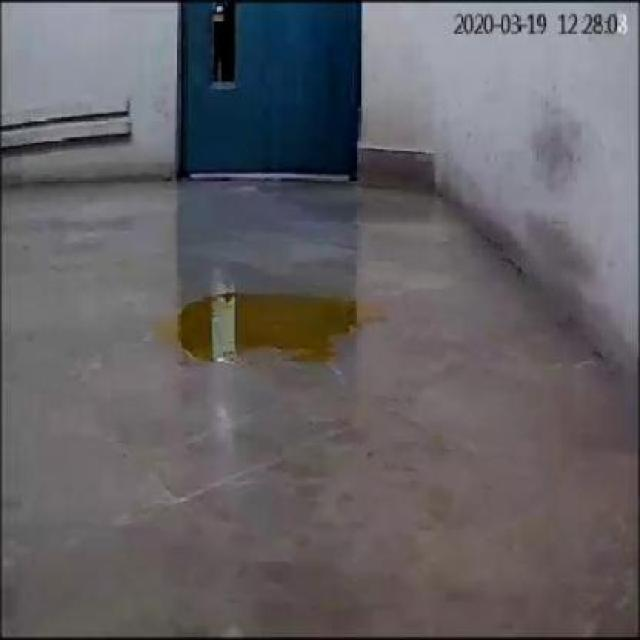spillage: (178, 294, 390, 364)
